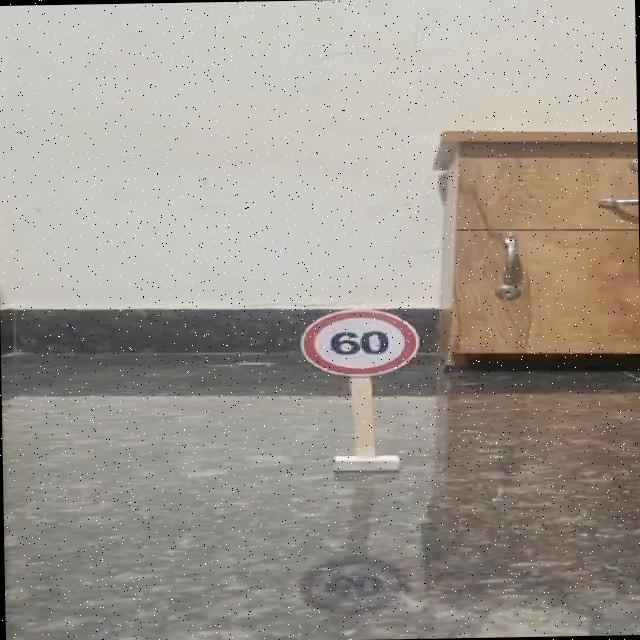Speed60: (278, 300, 435, 382)
